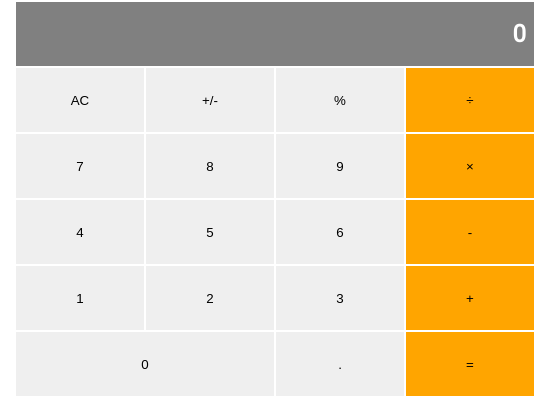
Test: Calculator component tests: › Perform an operation and display its result - test substraction -4-16 = -20
The image size is (551, 413).
Click the button "4" at {"x": 80, "y": 232}, box 16,200 -> 144,264
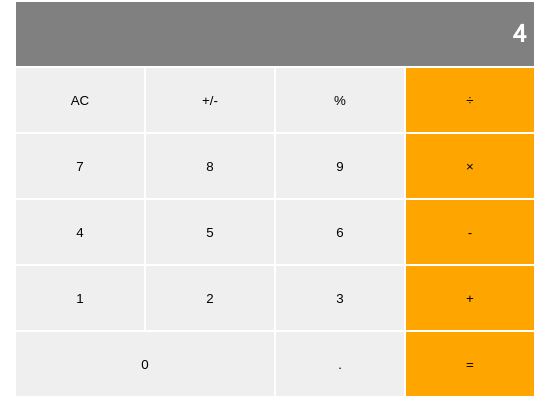
Click the button "+/-" at {"x": 210, "y": 100}, box 146,68 -> 274,132
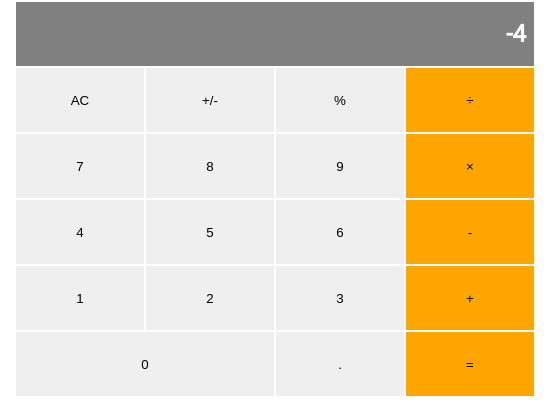
Click the button "-" at {"x": 470, "y": 232}, box 406,200 -> 534,264
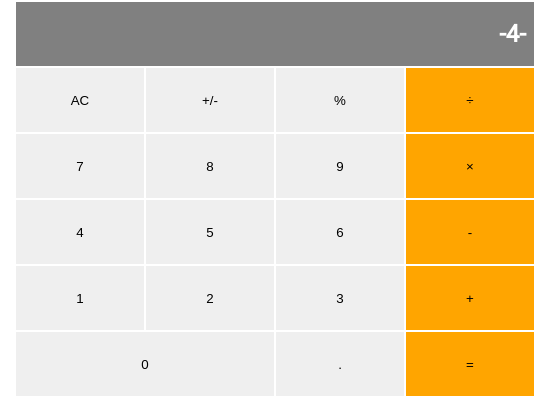
Click the button "1" at {"x": 80, "y": 298}, box 16,266 -> 144,330
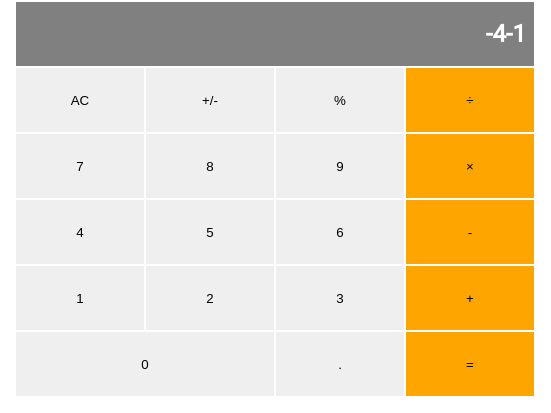
Click the button "6" at {"x": 340, "y": 232}, box 276,200 -> 404,264
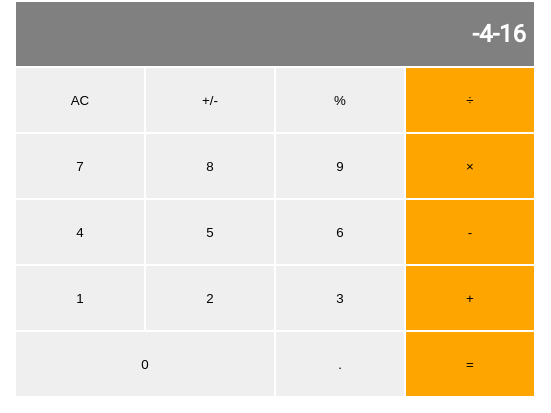
Click the button "=" at {"x": 470, "y": 364}, box 406,332 -> 534,396
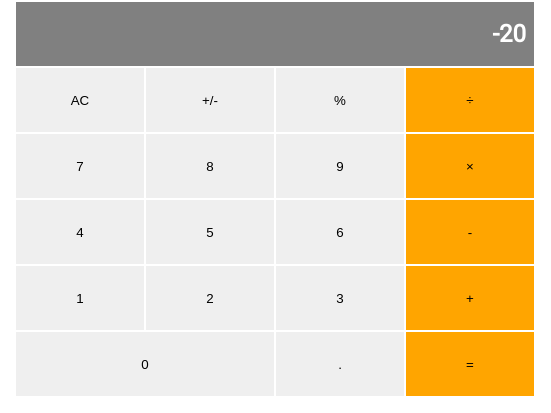
Check: the cell with class "result" reads "-20", box 492,20 -> 526,48
